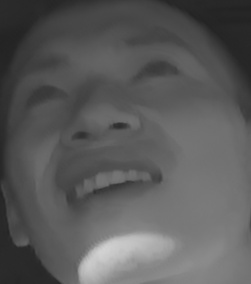eye: (125, 55, 187, 88), (21, 81, 69, 108)
mouth: (53, 151, 165, 218)
